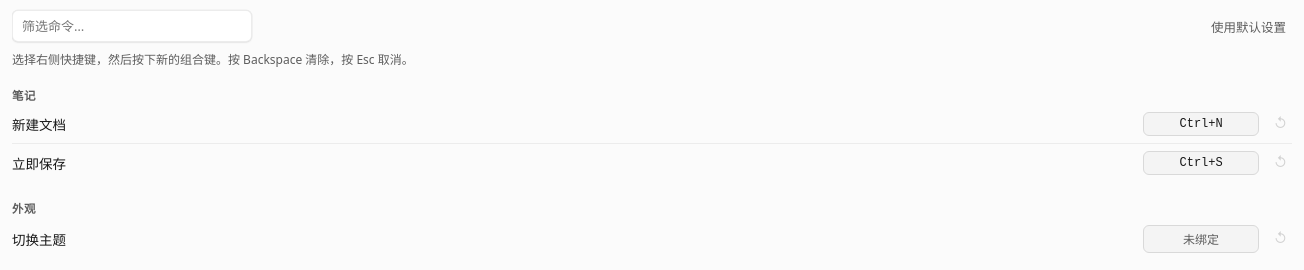
Test case: 快捷键设置 › 改回默认那条要从存下来的覆盖表里消失
Click the button with class "key-cap" showing "Ctrl+N".
click(1201, 124)  # box x1=1143 y1=112 x2=1259 y2=136
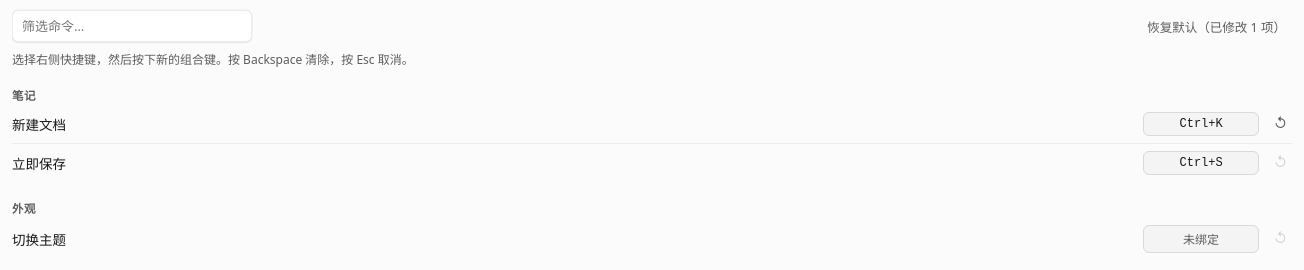
Click the button with class "set-reset" in the row of "新建文档".
click(1281, 124)  # box x1=1269 y1=115 x2=1292 y2=133
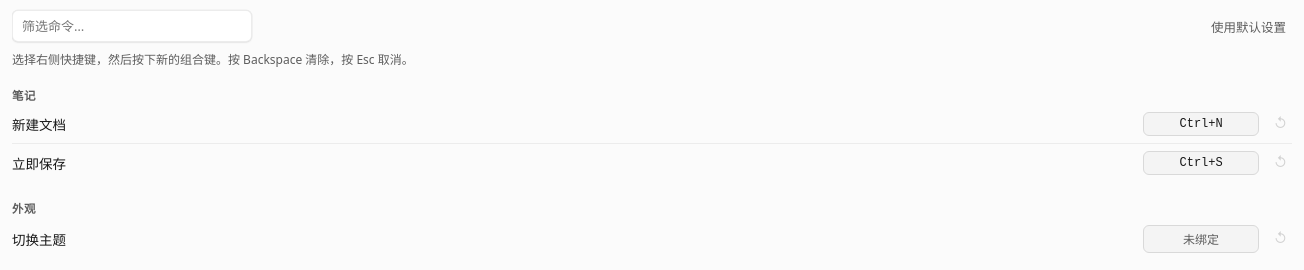
Result: the button with class "key-cap" reads "Ctrl+N" at x1=1143 y1=112 x2=1259 y2=136
